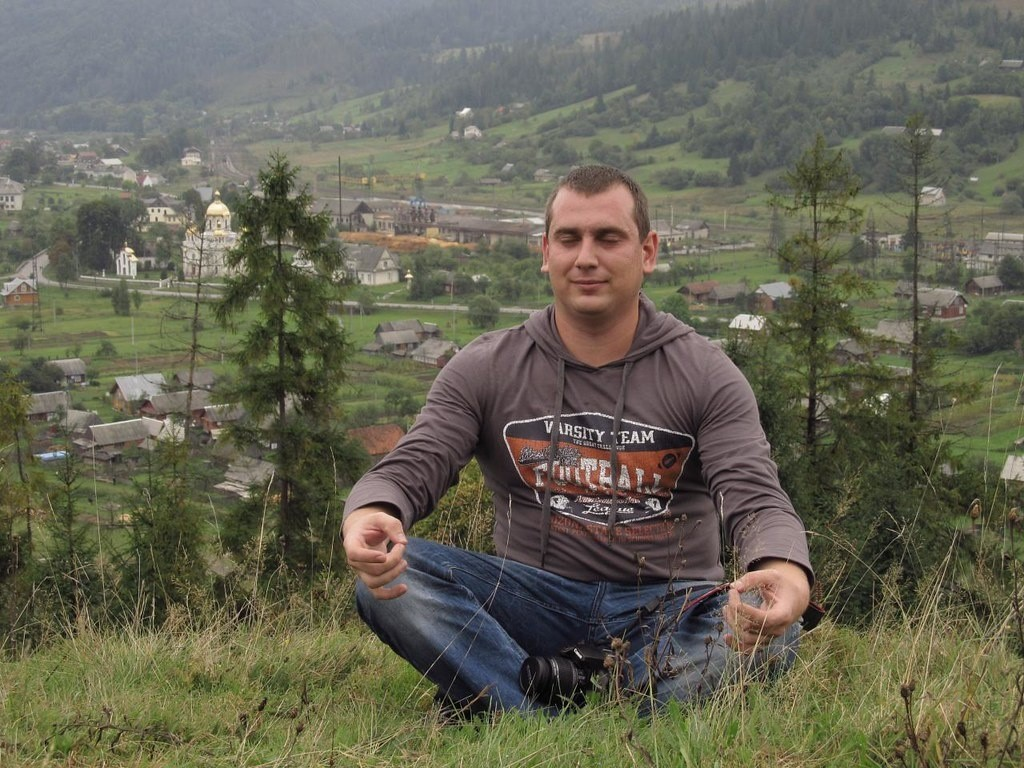face_no_mask: (539, 165, 660, 312)
